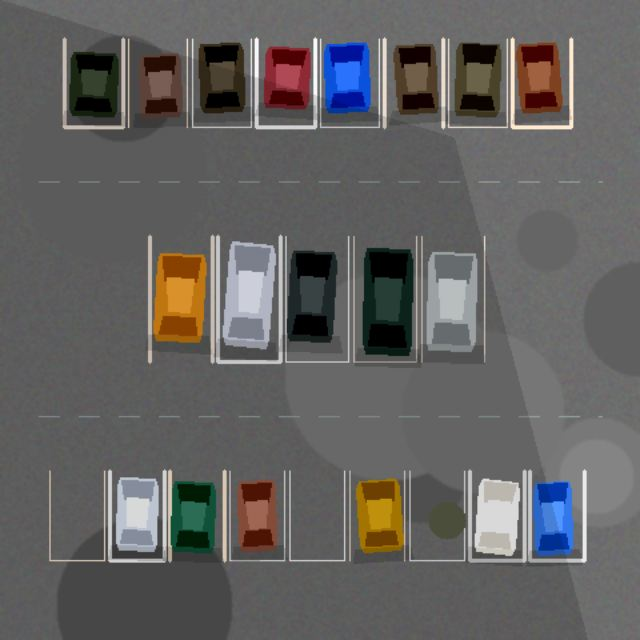space-empty: (49, 471, 104, 560), (289, 471, 344, 560), (409, 471, 464, 560)
space-occupied: (149, 236, 212, 361), (217, 236, 280, 361), (285, 236, 348, 361), (353, 236, 416, 361), (421, 236, 484, 361), (64, 39, 123, 127), (128, 39, 187, 127), (192, 39, 251, 127), (256, 39, 315, 127), (320, 39, 379, 127), (384, 39, 443, 127), (448, 39, 507, 127), (512, 39, 571, 127), (109, 471, 164, 560), (169, 471, 224, 560), (229, 471, 284, 560), (349, 471, 404, 560), (469, 471, 524, 560), (529, 471, 584, 560)
